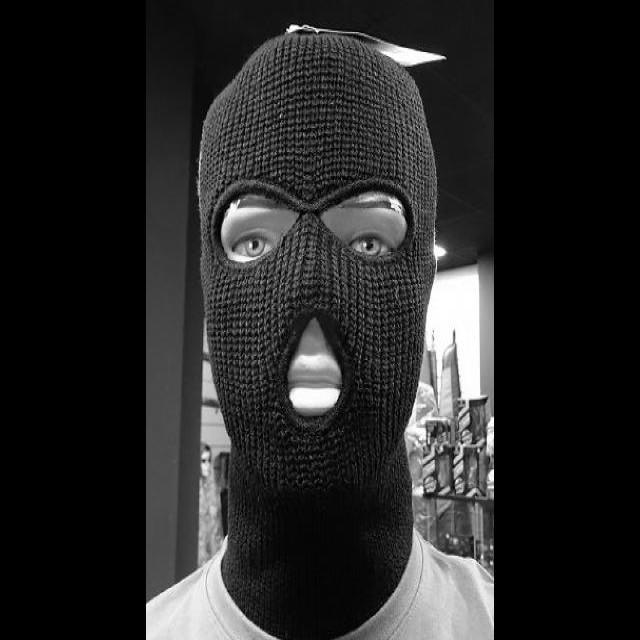6_pasamontana: (198, 33, 438, 636)
